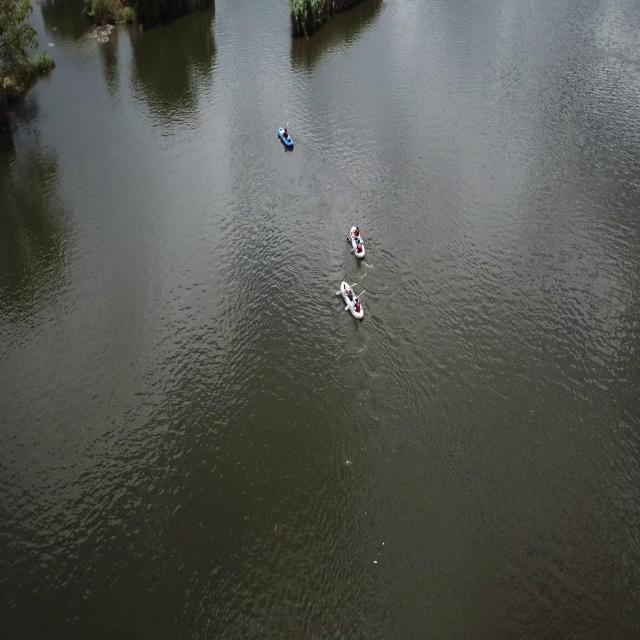kayak: (338, 271, 364, 322), (346, 223, 366, 262), (277, 124, 295, 154)
